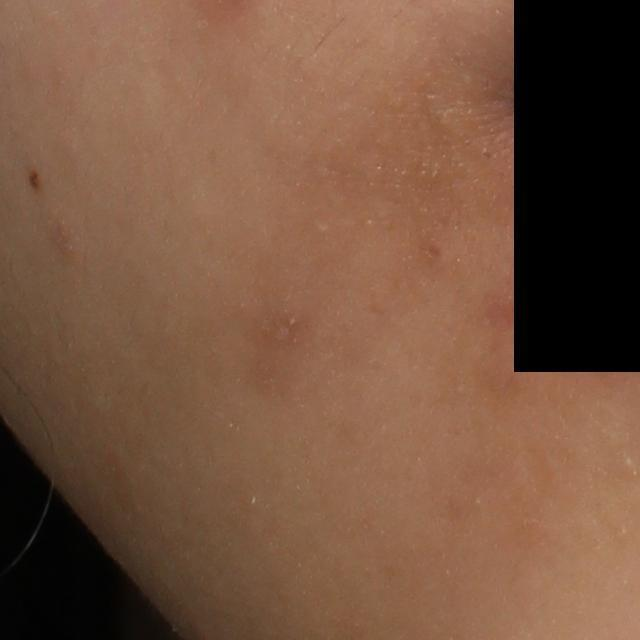nevus: (22, 164, 45, 192)
